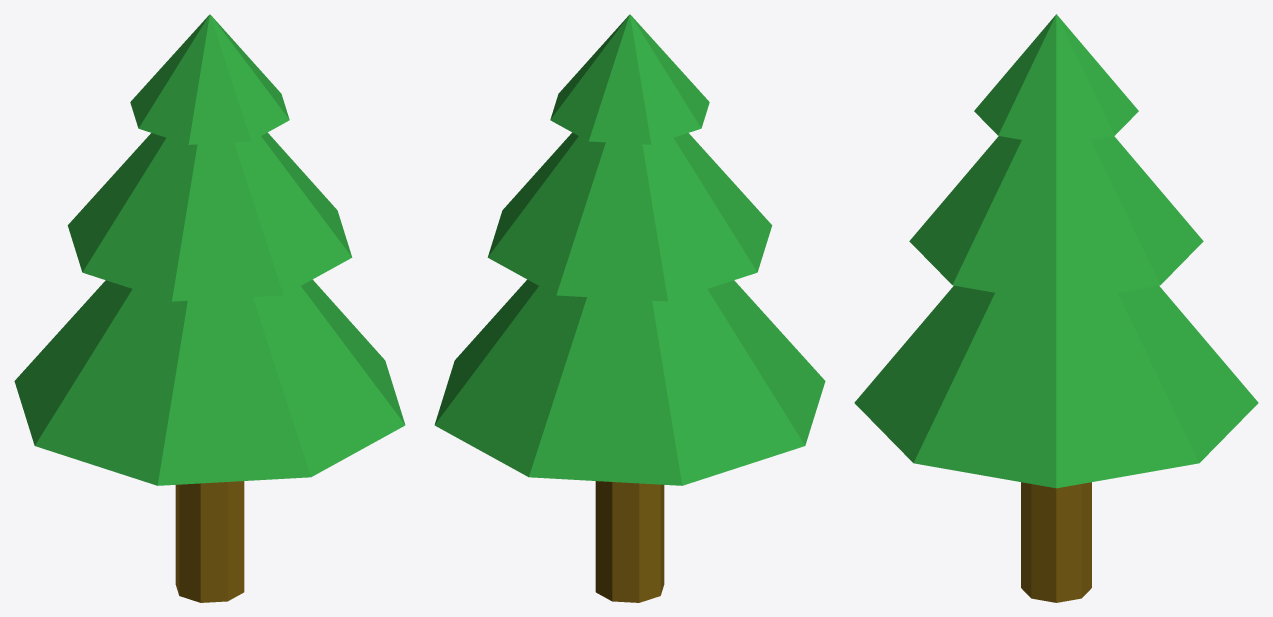
File: tree.fbx
The picture shows the model from 3 angles, left to right: view 1: azimuth 30°, elevation 25°; view 2: azimuth 150°, elevation 25°; view 3: azimuth 270°, elevation 25°; orthographic projection.
Parts seen in each view (by area): view 1: Cone, Cone_1, Cone_2, Cylinder; view 2: Cone, Cone_1, Cone_2, Cylinder; view 3: Cone, Cone_1, Cone_2, Cylinder.
Boxes of the visible parts, x1=… form: Cone: x1=14, y1=279, x2=405, y2=485; Cone_1: x1=67, y1=132, x2=352, y2=301; Cone_2: x1=130, y1=14, x2=289, y2=144; Cylinder: x1=175, y1=481, x2=244, y2=602; Cone: x1=434, y1=279, x2=825, y2=485; Cone_1: x1=487, y1=132, x2=772, y2=301; Cone_2: x1=550, y1=14, x2=709, y2=144; Cylinder: x1=595, y1=481, x2=664, y2=602; Cone: x1=854, y1=285, x2=1258, y2=488; Cone_1: x1=909, y1=136, x2=1203, y2=303; Cone_2: x1=974, y1=14, x2=1138, y2=145; Cylinder: x1=1021, y1=482, x2=1091, y2=602.
Size of the model in its own units: 12.25 by 19.19 by 12.25.
